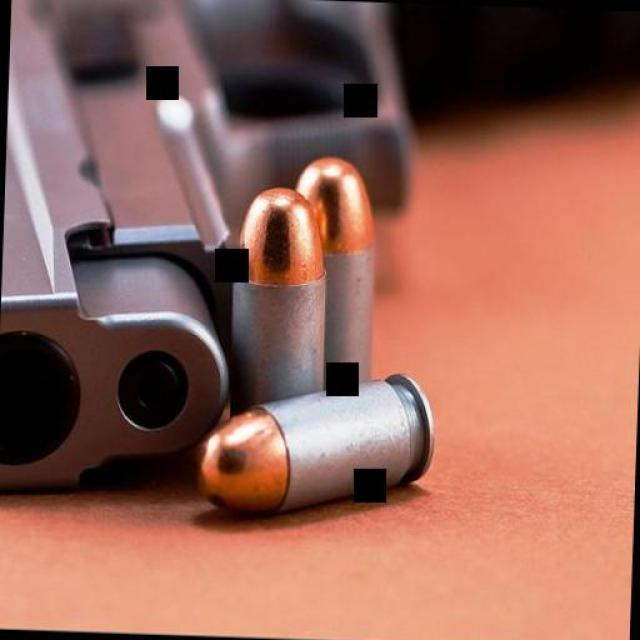gun: (0, 0, 422, 506)
